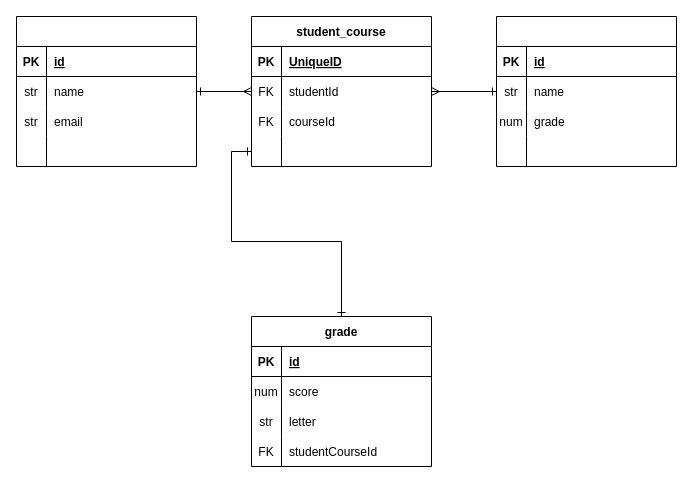
The diagram is 693 pixels wide and 483 high, and some of its shapes have lost their labels. The shapes that lost their labels are listed below. From the top down, each one's box as (x1, y1, x2, y2) in pixels, then its label:
(16, 16, 196, 166): student
(496, 16, 676, 166): course
